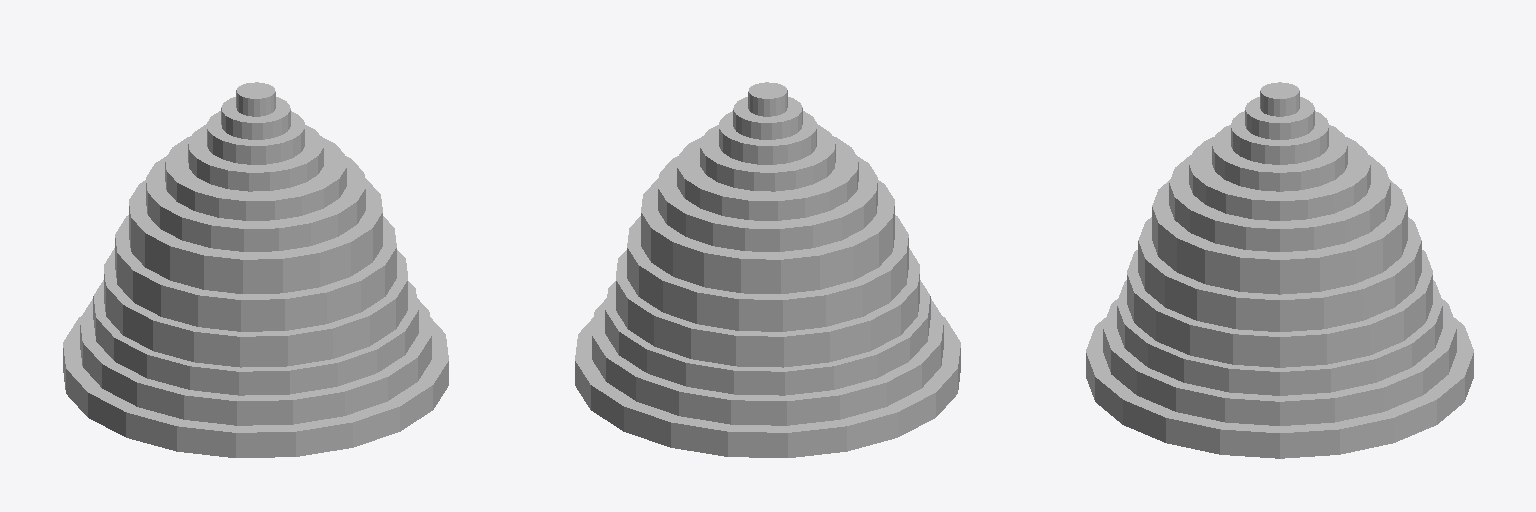
File: Tree1.obj
3 views of the same model, side by side, from view 1: azimuth 30°, elevation 25°; view 2: azimuth 150°, elevation 25°; view 3: azimuth 270°, elevation 25° (orthographic).
Visible parts, largest first — view 1: pCylinder1, pasted__pCylinder1 group, pasted__pasted__pasted__pasted__pasted__pCylinder1 pasted__paste, pasted__pasted__pasted__pCylinder1 pasted__pasted__group pasted_, pasted__pasted__pasted__pasted__pCylinder1 pasted__pasted__paste, pasted__pasted__pasted__pasted__pasted__pasted__pasted__pasted__, pasted__pasted__pCylinder1 pasted__group group1, pasted__pasted__pasted__pasted__pasted__pasted__pCylinder1 paste, pasted__pasted__pasted__pasted__pasted__pasted__pasted__pCylinde; view 2: pCylinder1, pasted__pCylinder1 group, pasted__pasted__pasted__pasted__pasted__pCylinder1 pasted__paste, pasted__pasted__pasted__pCylinder1 pasted__pasted__group pasted_, pasted__pasted__pasted__pasted__pCylinder1 pasted__pasted__paste, pasted__pasted__pasted__pasted__pasted__pasted__pasted__pasted__, pasted__pasted__pCylinder1 pasted__group group1, pasted__pasted__pasted__pasted__pasted__pasted__pCylinder1 paste, pasted__pasted__pasted__pasted__pasted__pasted__pasted__pCylinde; view 3: pCylinder1, pasted__pCylinder1 group, pasted__pasted__pasted__pasted__pasted__pCylinder1 pasted__paste, pasted__pasted__pasted__pCylinder1 pasted__pasted__group pasted_, pasted__pasted__pasted__pasted__pCylinder1 pasted__pasted__paste, pasted__pasted__pasted__pasted__pasted__pasted__pasted__pasted__, pasted__pasted__pCylinder1 pasted__group group1, pasted__pasted__pasted__pasted__pasted__pasted__pCylinder1 paste, pasted__pasted__pasted__pasted__pasted__pasted__pasted__pCylinde.
Part boxes in pixels (x1,y1,x2,y2): pCylinder1: (63,317,448,457); pasted__pCylinder1 group: (80,298,431,425); pasted__pasted__pasted__pasted__pasted__pCylinder1 pasted__paste: (129,178,382,293); pasted__pasted__pasted__pCylinder1 pasted__pasted__group pasted_: (104,248,407,367); pasted__pasted__pasted__pasted__pCylinder1 pasted__pasted__paste: (115,215,396,331); pasted__pasted__pasted__pasted__pasted__pasted__pasted__pasted__: (188,82,323,191); pasted__pasted__pCylinder1 pasted__group group1: (93,280,418,395); pasted__pasted__pasted__pasted__pasted__pasted__pCylinder1 paste: (146,156,365,251); pasted__pasted__pasted__pasted__pasted__pasted__pasted__pCylinde: (165,136,346,220); pCylinder1: (575,317,960,457); pasted__pCylinder1 group: (592,298,943,425); pasted__pasted__pasted__pasted__pasted__pCylinder1 pasted__paste: (641,178,894,293); pasted__pasted__pasted__pCylinder1 pasted__pasted__group pasted_: (616,248,919,367); pasted__pasted__pasted__pasted__pCylinder1 pasted__pasted__paste: (627,215,908,331); pasted__pasted__pasted__pasted__pasted__pasted__pasted__pasted__: (700,82,835,191); pasted__pasted__pCylinder1 pasted__group group1: (605,280,930,395); pasted__pasted__pasted__pasted__pasted__pasted__pCylinder1 paste: (658,156,877,251); pasted__pasted__pasted__pasted__pasted__pasted__pasted__pCylinde: (677,136,858,220); pCylinder1: (1086,318,1473,458); pasted__pCylinder1 group: (1103,299,1456,425); pasted__pasted__pasted__pasted__pasted__pCylinder1 pasted__paste: (1152,180,1407,294); pasted__pasted__pasted__pCylinder1 pasted__pasted__group pasted_: (1127,250,1432,367); pasted__pasted__pasted__pasted__pCylinder1 pasted__pasted__paste: (1138,217,1421,331); pasted__pasted__pasted__pasted__pasted__pasted__pasted__pasted__: (1212,82,1347,191); pasted__pasted__pCylinder1 pasted__group group1: (1117,280,1442,395); pasted__pasted__pasted__pasted__pasted__pasted__pCylinder1 paste: (1169,155,1390,251); pasted__pasted__pasted__pasted__pasted__pasted__pasted__pCylinde: (1189,137,1370,220).
Size of the model in its own units: 5.02 by 4.71 by 5.02.